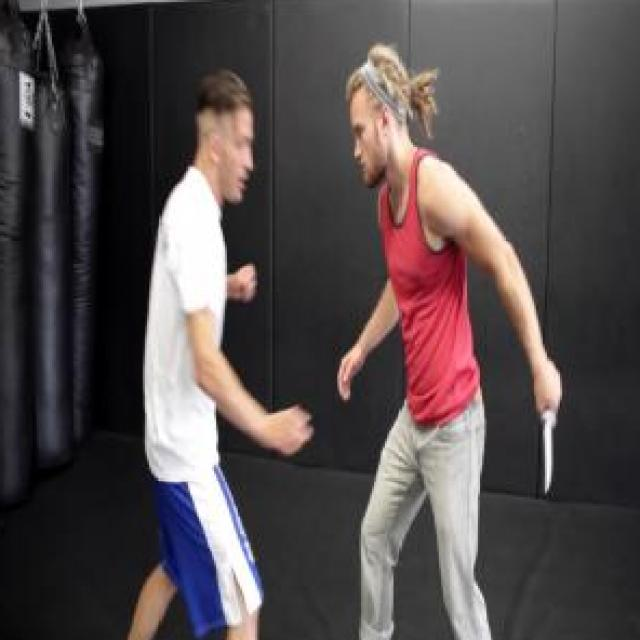knife: (535, 363, 567, 498)
